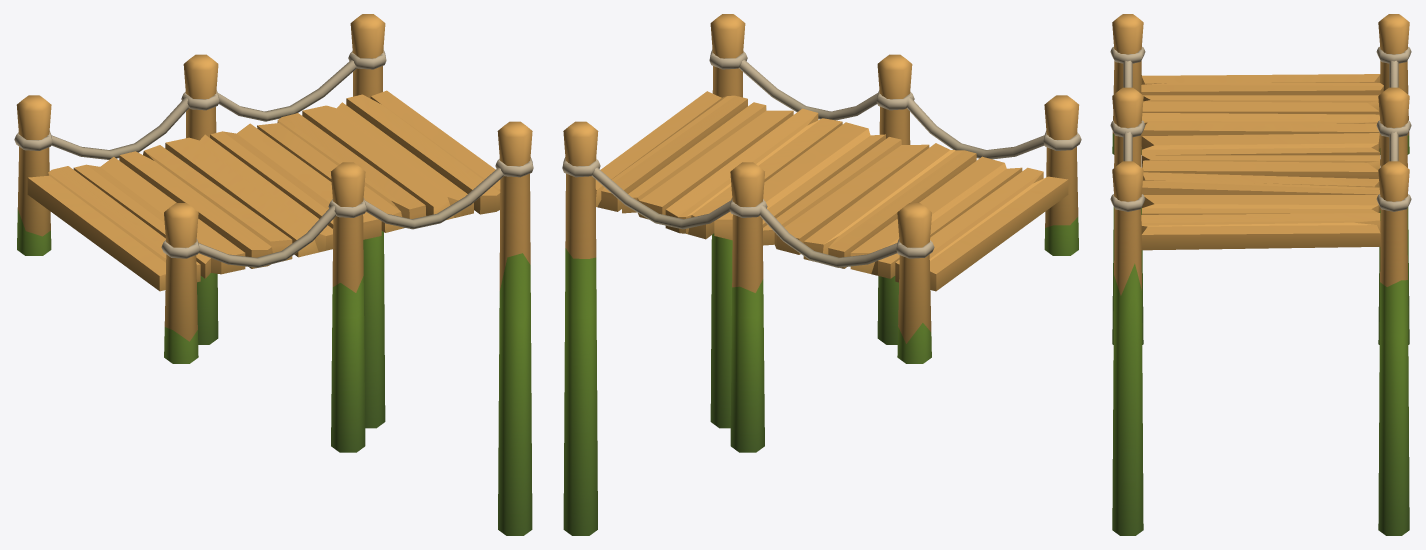
The model's file is Dock.fbx.
3 renders of one model, left to right at view 1: azimuth 30°, elevation 25°; view 2: azimuth 150°, elevation 25°; view 3: azimuth 270°, elevation 25°, orthographic. The views are drawn at different scales.
Visible parts, largest first — view 1: Dock; view 2: Dock; view 3: Dock.
Boxes of the visible parts, <box> form: Dock: <box>14,14,533,535</box>; Dock: <box>562,14,1081,535</box>; Dock: <box>1110,14,1411,535</box>.
Size of the model in its own units: 204 by 215 by 161.
